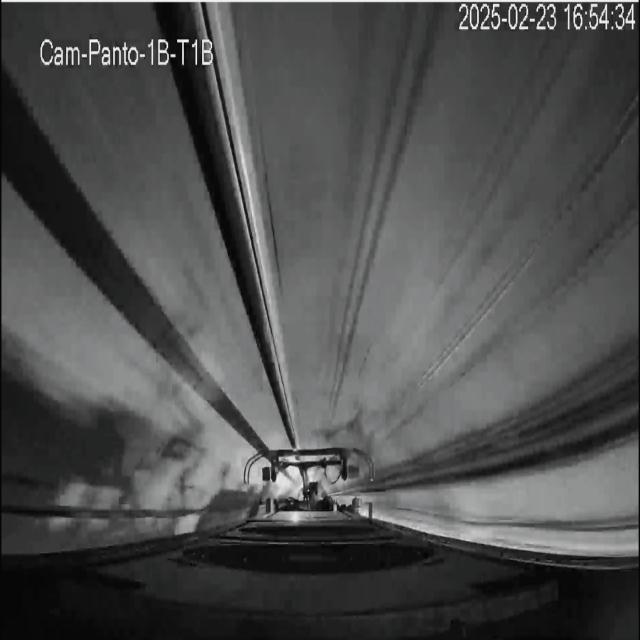Camera Stamp: (42, 33, 220, 69)
Date Stamp: (458, 3, 635, 33)
No - Spark: (245, 445, 373, 516)
